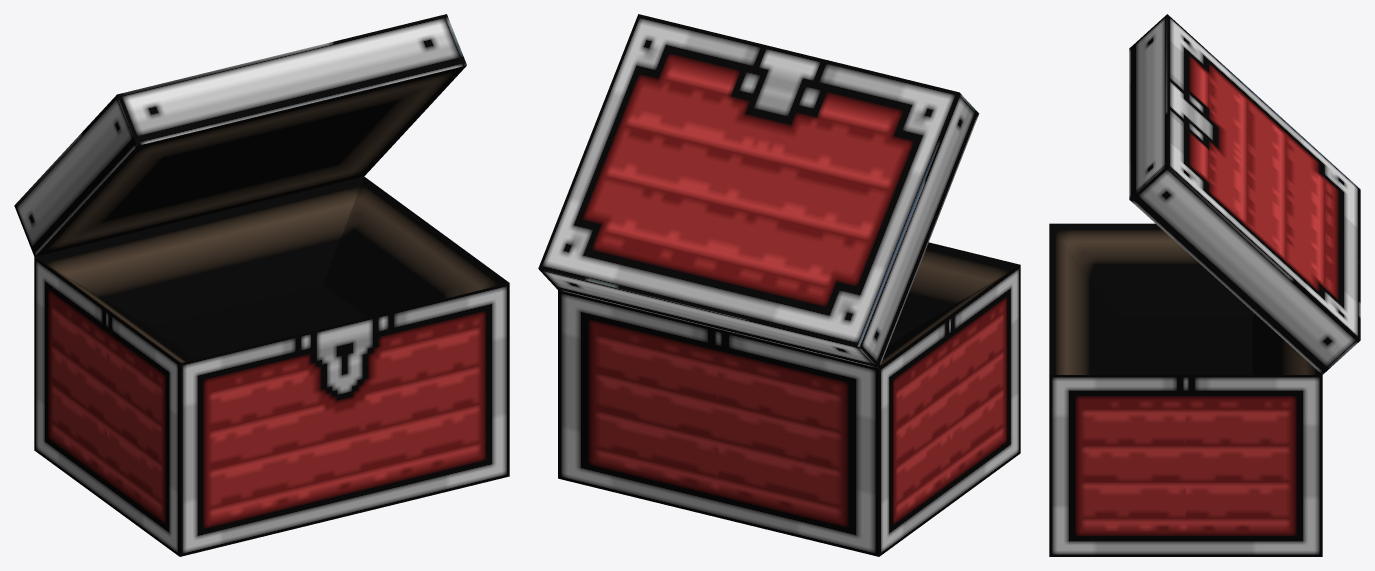
File: deco_winter_chestLargeOpen.FBX
3 renders of one model, left to right at view 1: azimuth 30°, elevation 25°; view 2: azimuth 150°, elevation 25°; view 3: azimuth 270°, elevation 25°, orthographic. The views are drawn at different scales.
Parts seen in each view (by area): view 1: deco_winter_chestLargeOpen; view 2: deco_winter_chestLargeOpen; view 3: deco_winter_chestLargeOpen.
Part boxes in pixels (x1,y1,x2,y2): deco_winter_chestLargeOpen: (14,14,509,556); deco_winter_chestLargeOpen: (538,14,1020,556); deco_winter_chestLargeOpen: (1049,14,1360,556).
Size of the model in its own units: 2.02 by 2.43 by 1.75.
Materials: 1 (1 with a texture image).
